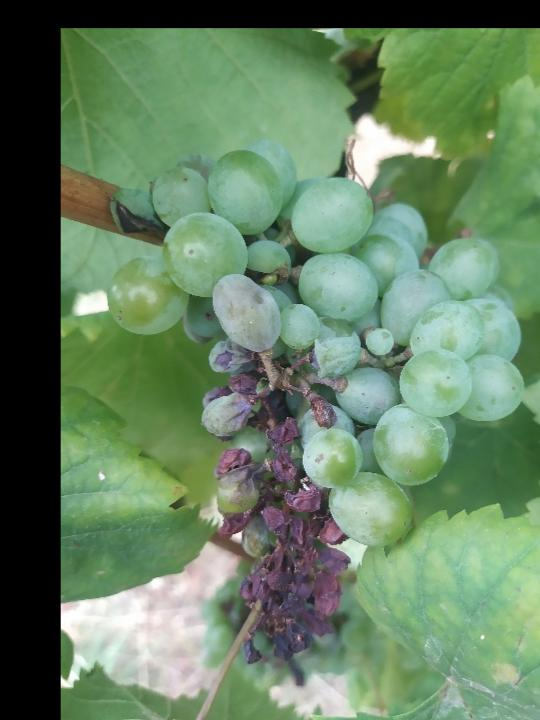grape: (106, 137, 530, 665)
